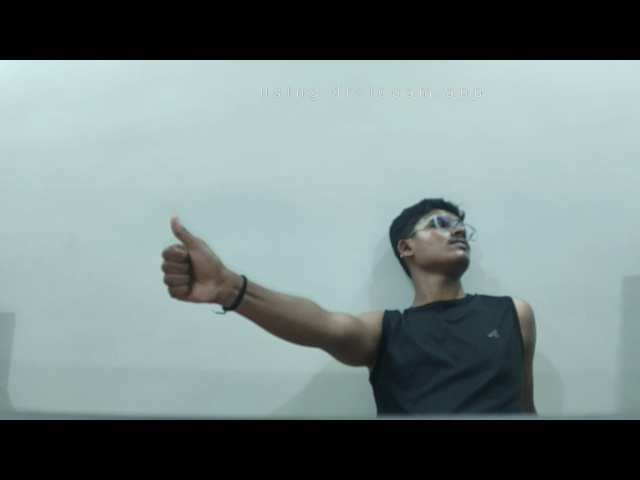thanks: (145, 205, 236, 317)
